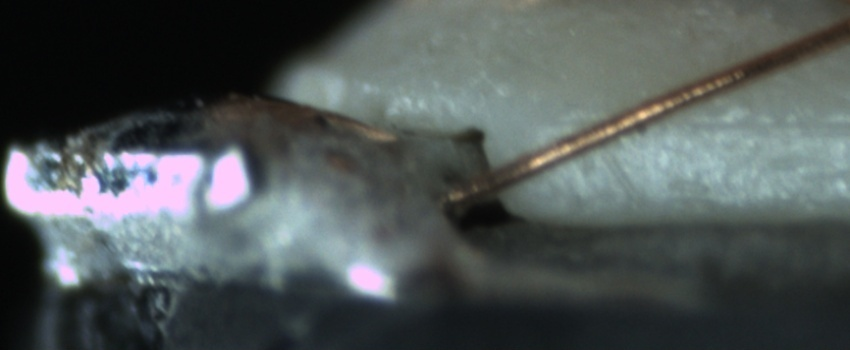DL: (557, 91, 845, 158)
